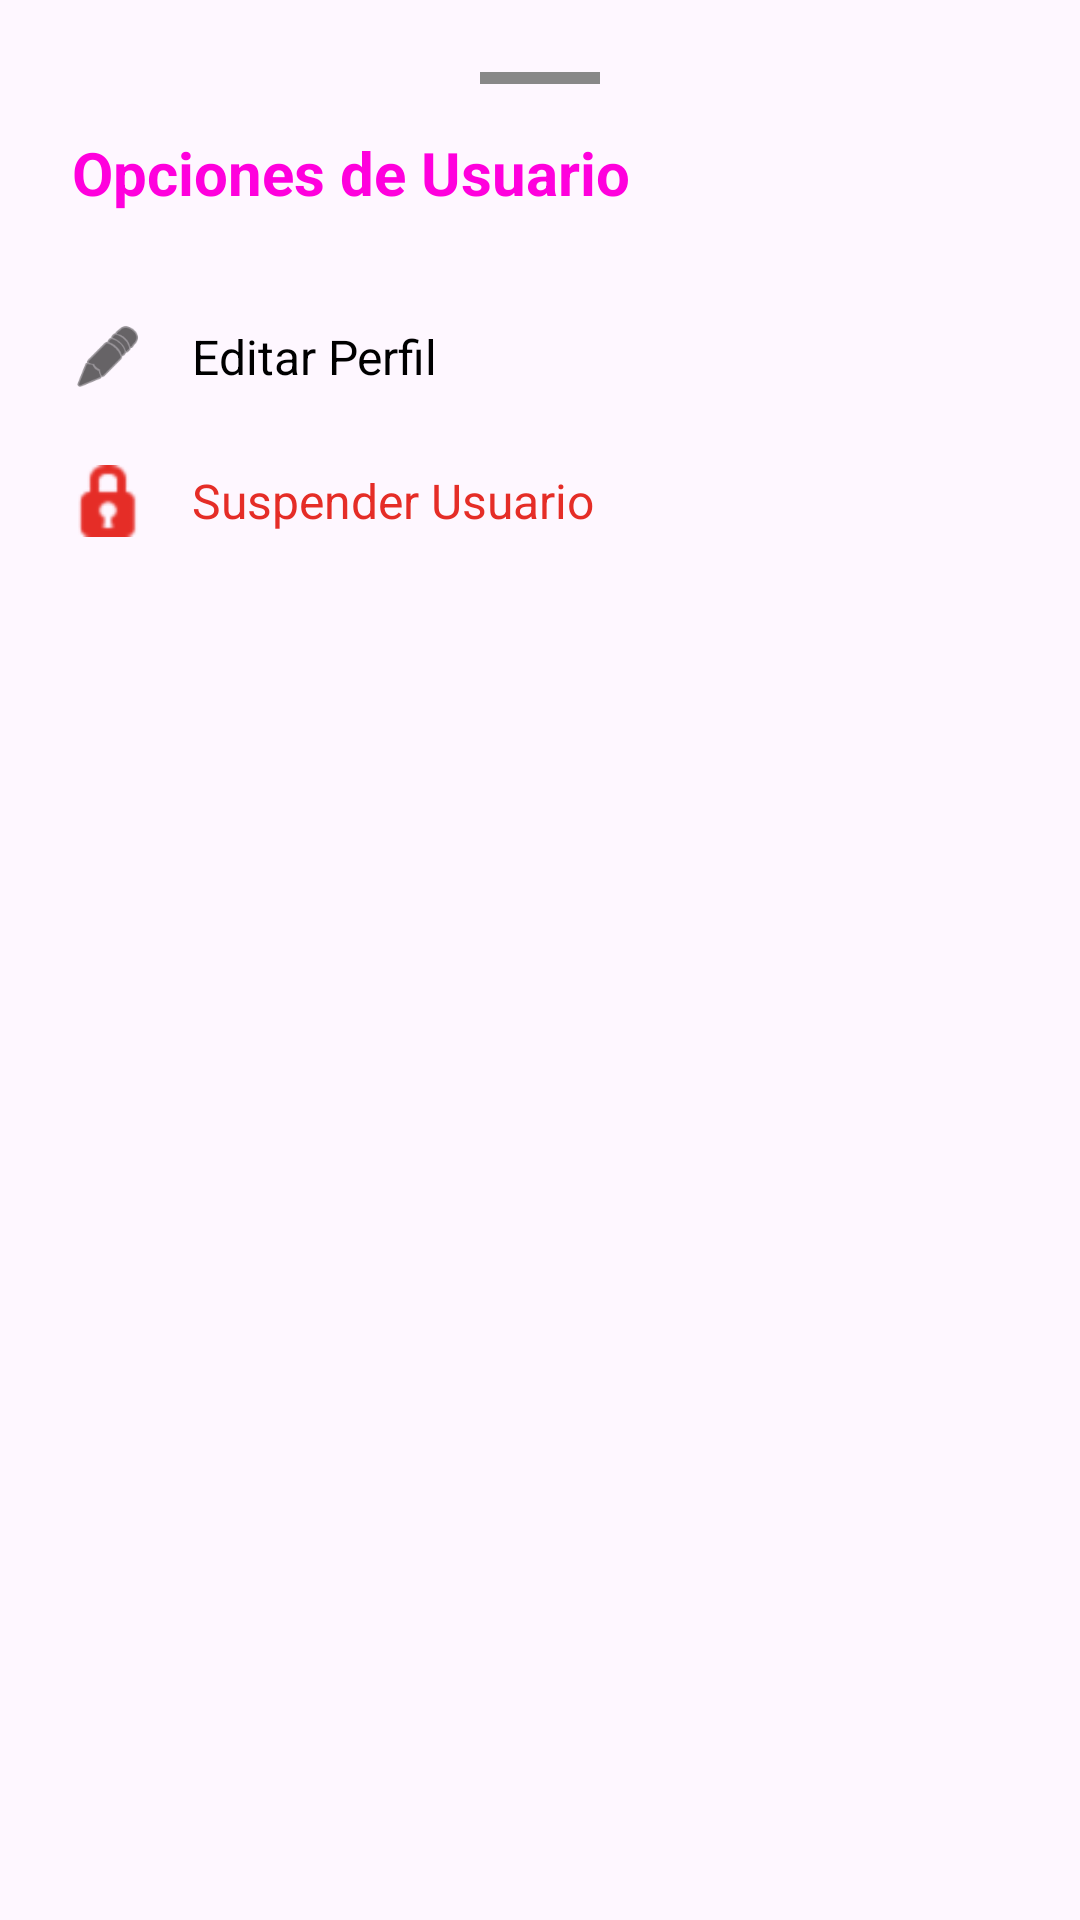

Locate icon controls on the screen. Image size 1080w x 1920h, boxes as [x1=x1, y1=y1, x2=x2, y2=y2].
secure: [x1=79, y1=465, x2=136, y2=537]
